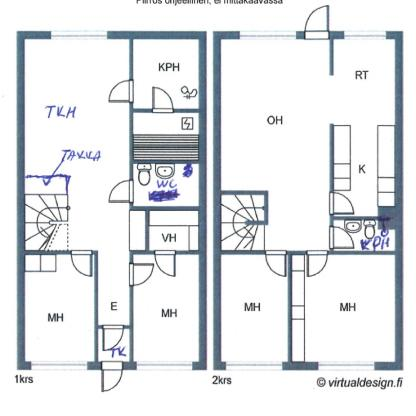door: (306, 5, 330, 40), (100, 360, 124, 394), (148, 87, 175, 116), (326, 190, 357, 215), (69, 249, 94, 279), (106, 77, 133, 104), (108, 178, 136, 204), (128, 262, 154, 286), (100, 324, 124, 350), (303, 251, 327, 277), (266, 247, 285, 279), (153, 251, 176, 276), (329, 230, 353, 248)
window: (318, 360, 376, 371), (30, 361, 84, 371), (136, 361, 192, 370), (237, 32, 297, 40), (224, 362, 282, 370), (51, 31, 106, 39), (344, 32, 386, 38)
zone: (221, 37, 396, 250), (26, 40, 129, 322), (292, 254, 394, 363), (24, 255, 93, 361), (223, 254, 288, 362), (134, 254, 198, 362), (135, 38, 198, 107), (132, 111, 198, 160), (130, 207, 198, 250), (134, 165, 198, 204), (98, 328, 129, 362)
